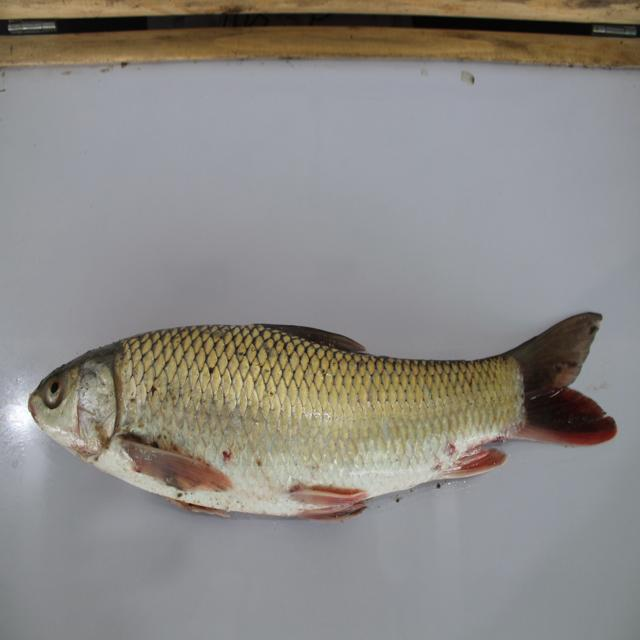Mori: (11, 314, 631, 532)
